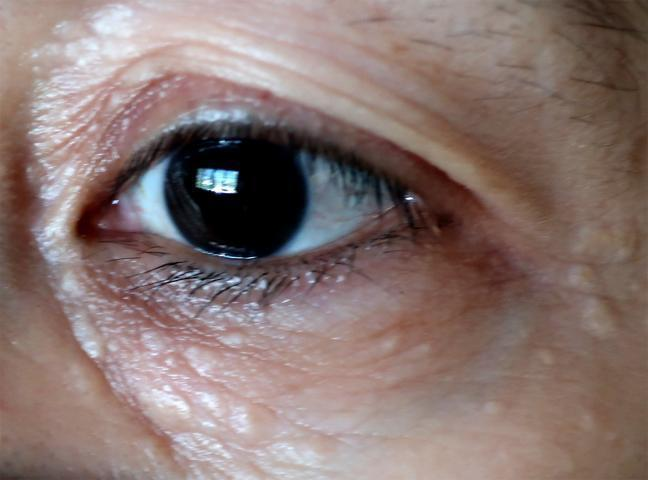syringoma: (568, 204, 644, 351), (134, 332, 273, 388), (468, 382, 519, 432), (568, 391, 607, 450), (537, 342, 571, 375)
